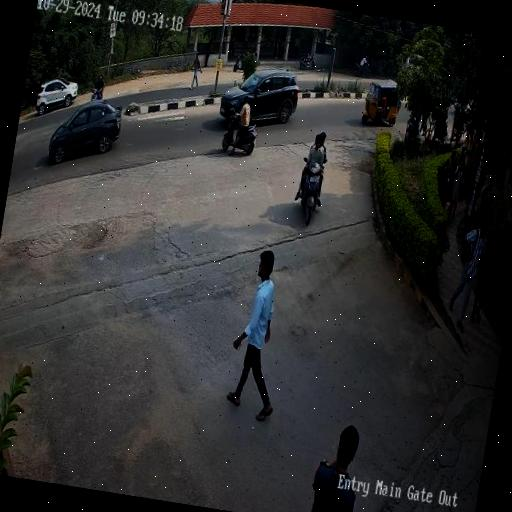no helmet: (298, 128, 335, 210), (230, 92, 261, 118)
